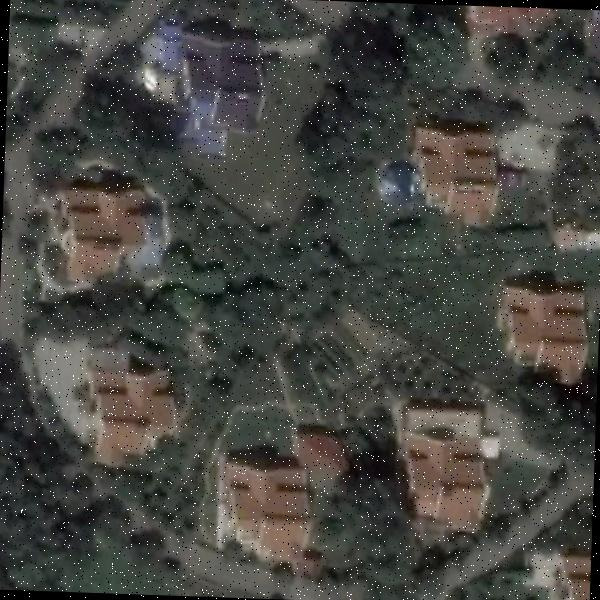Buildings: (212, 465, 306, 572), (166, 30, 251, 143), (510, 276, 594, 377), (412, 412, 492, 518), (60, 180, 138, 281), (420, 133, 510, 210), (80, 371, 167, 448), (468, 6, 552, 37), (300, 434, 344, 481), (547, 559, 590, 600)
